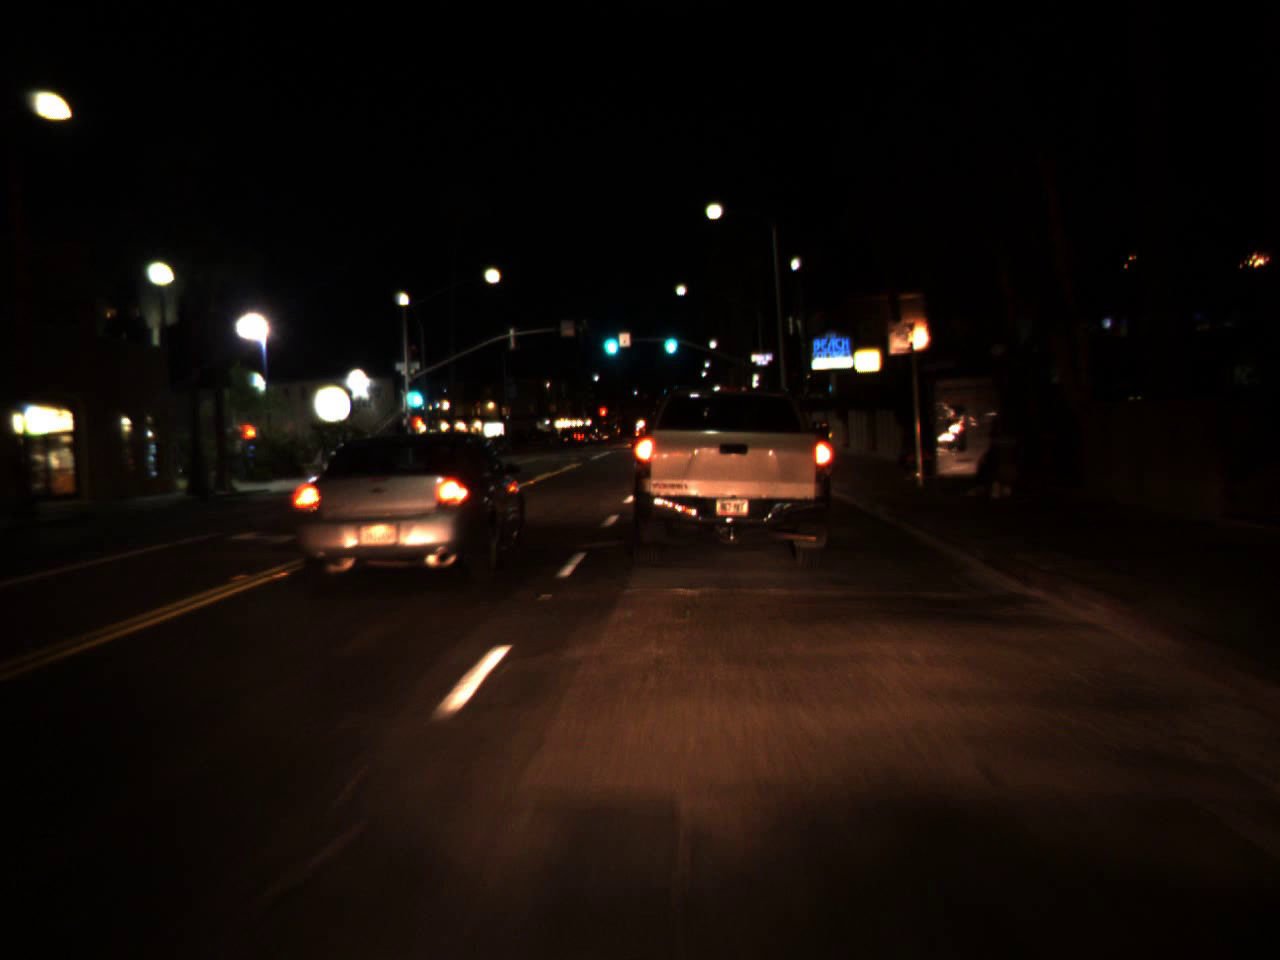go: (399, 373, 427, 412), (598, 319, 621, 361), (660, 319, 679, 358)
